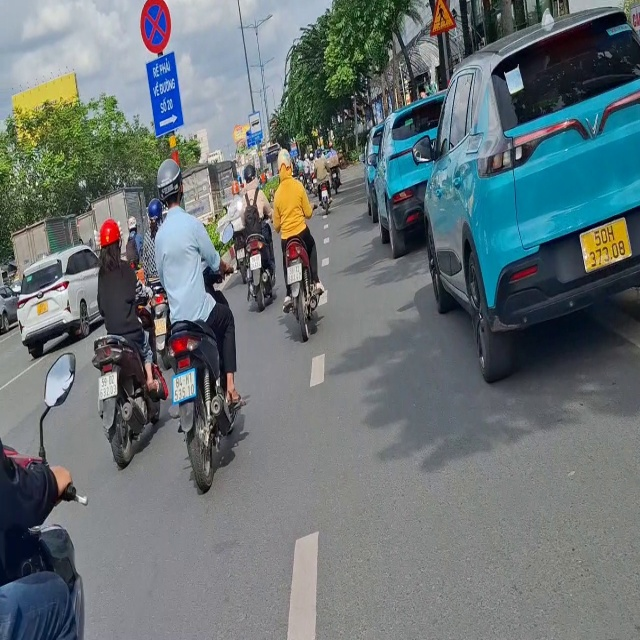cam dung cam do: (128, 2, 190, 57)
nguoi qua duong: (413, 0, 467, 47)
